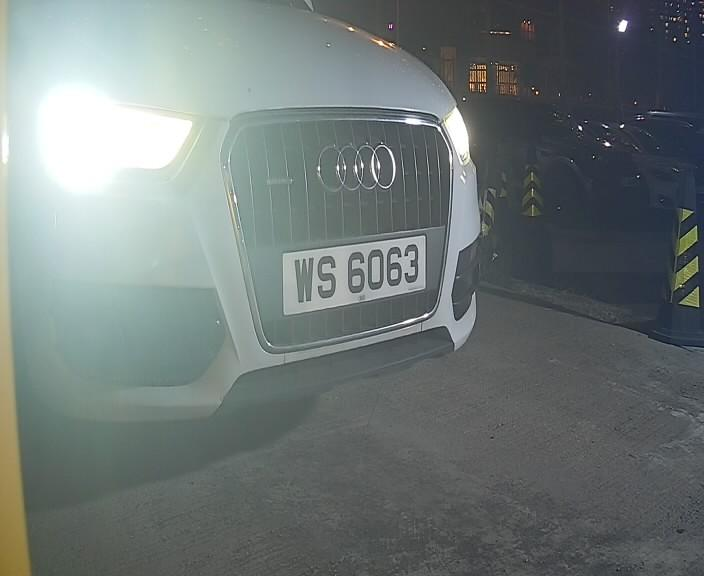Car: (1, 1, 554, 471)
License Plate: (280, 222, 437, 322)
